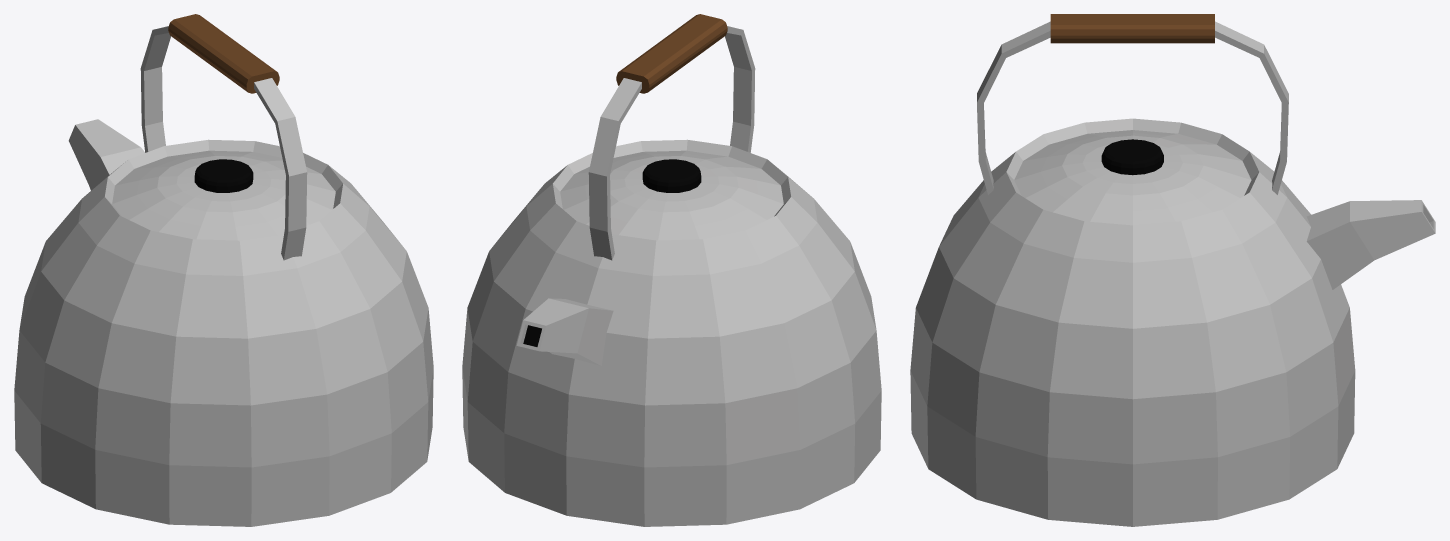
The model's file is Pava.fbx.
3 views of the same model, side by side, from view 1: azimuth 30°, elevation 25°; view 2: azimuth 150°, elevation 25°; view 3: azimuth 270°, elevation 25° (orthographic). The views are drawn at different scales.
Parts seen in each view (by area): view 1: Pava; view 2: Pava; view 3: Pava.
Boxes of the visible parts, bbox=[...] form: Pava: bbox=[14, 14, 433, 526]; Pava: bbox=[462, 14, 881, 526]; Pava: bbox=[910, 14, 1435, 526].
Bounding box in the file's own units: 31.98 × 32.82 × 37.75.
